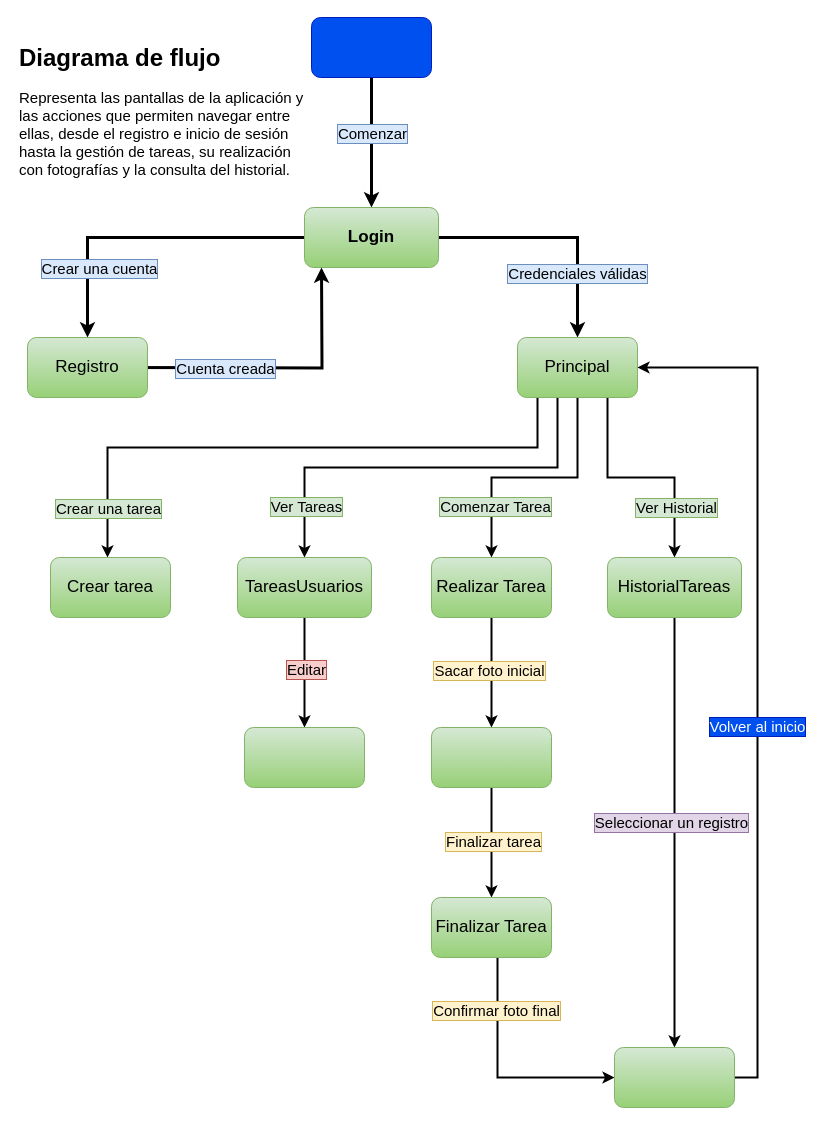
Image size: 823x1125. Some labels were removed from this diagram. The centre of each missing label's shape, as x and y in pixels:
Bienvenida: the point at 371,47
EditarTarea: the point at 304,757
Resultado Tarea: the point at 674,1077
Tarea En Curso: the point at 491,757
